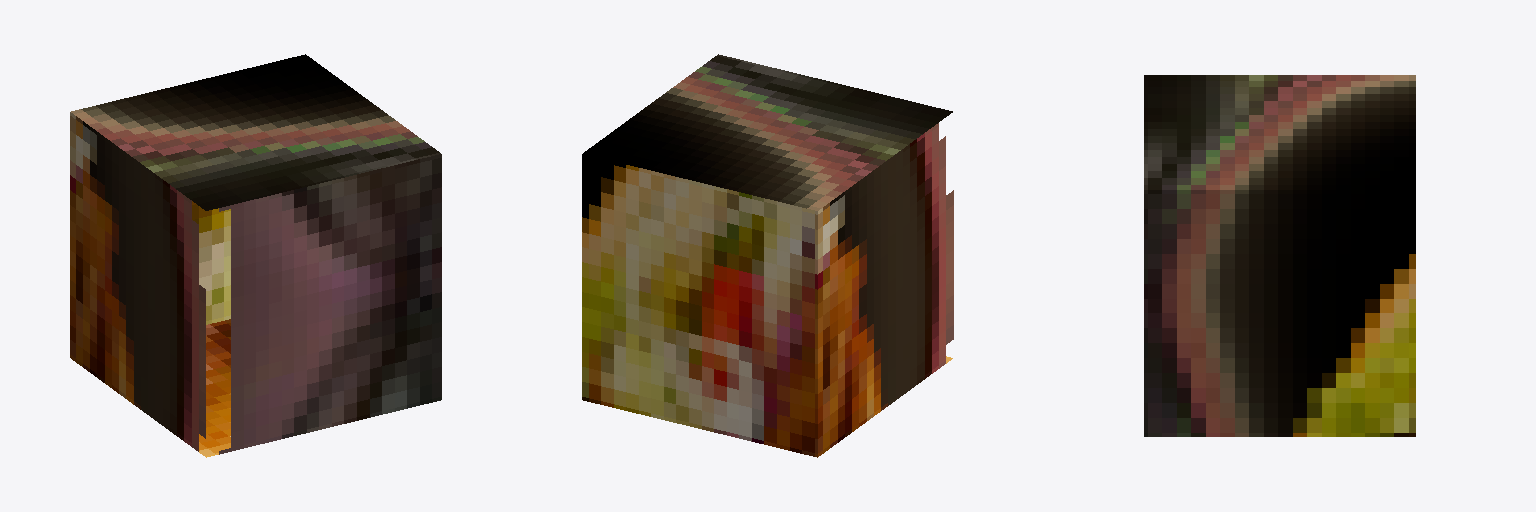
3 renders of one model, left to right at view 1: azimuth 30°, elevation 25°; view 2: azimuth 150°, elevation 25°; view 3: azimuth 270°, elevation 25°, orthographic.
Parts seen in each view (by area): view 1: Cube_Cube.001; view 2: Cube_Cube.001; view 3: Cube_Cube.001.
Boxes of the visible parts, x1,y1,x2,y2 form: Cube_Cube.001: [70, 54, 441, 457]; Cube_Cube.001: [582, 54, 953, 457]; Cube_Cube.001: [1144, 75, 1415, 436].
Bounding box in the file's own units: 2 × 2 × 2.
1 materials, 1 textured.